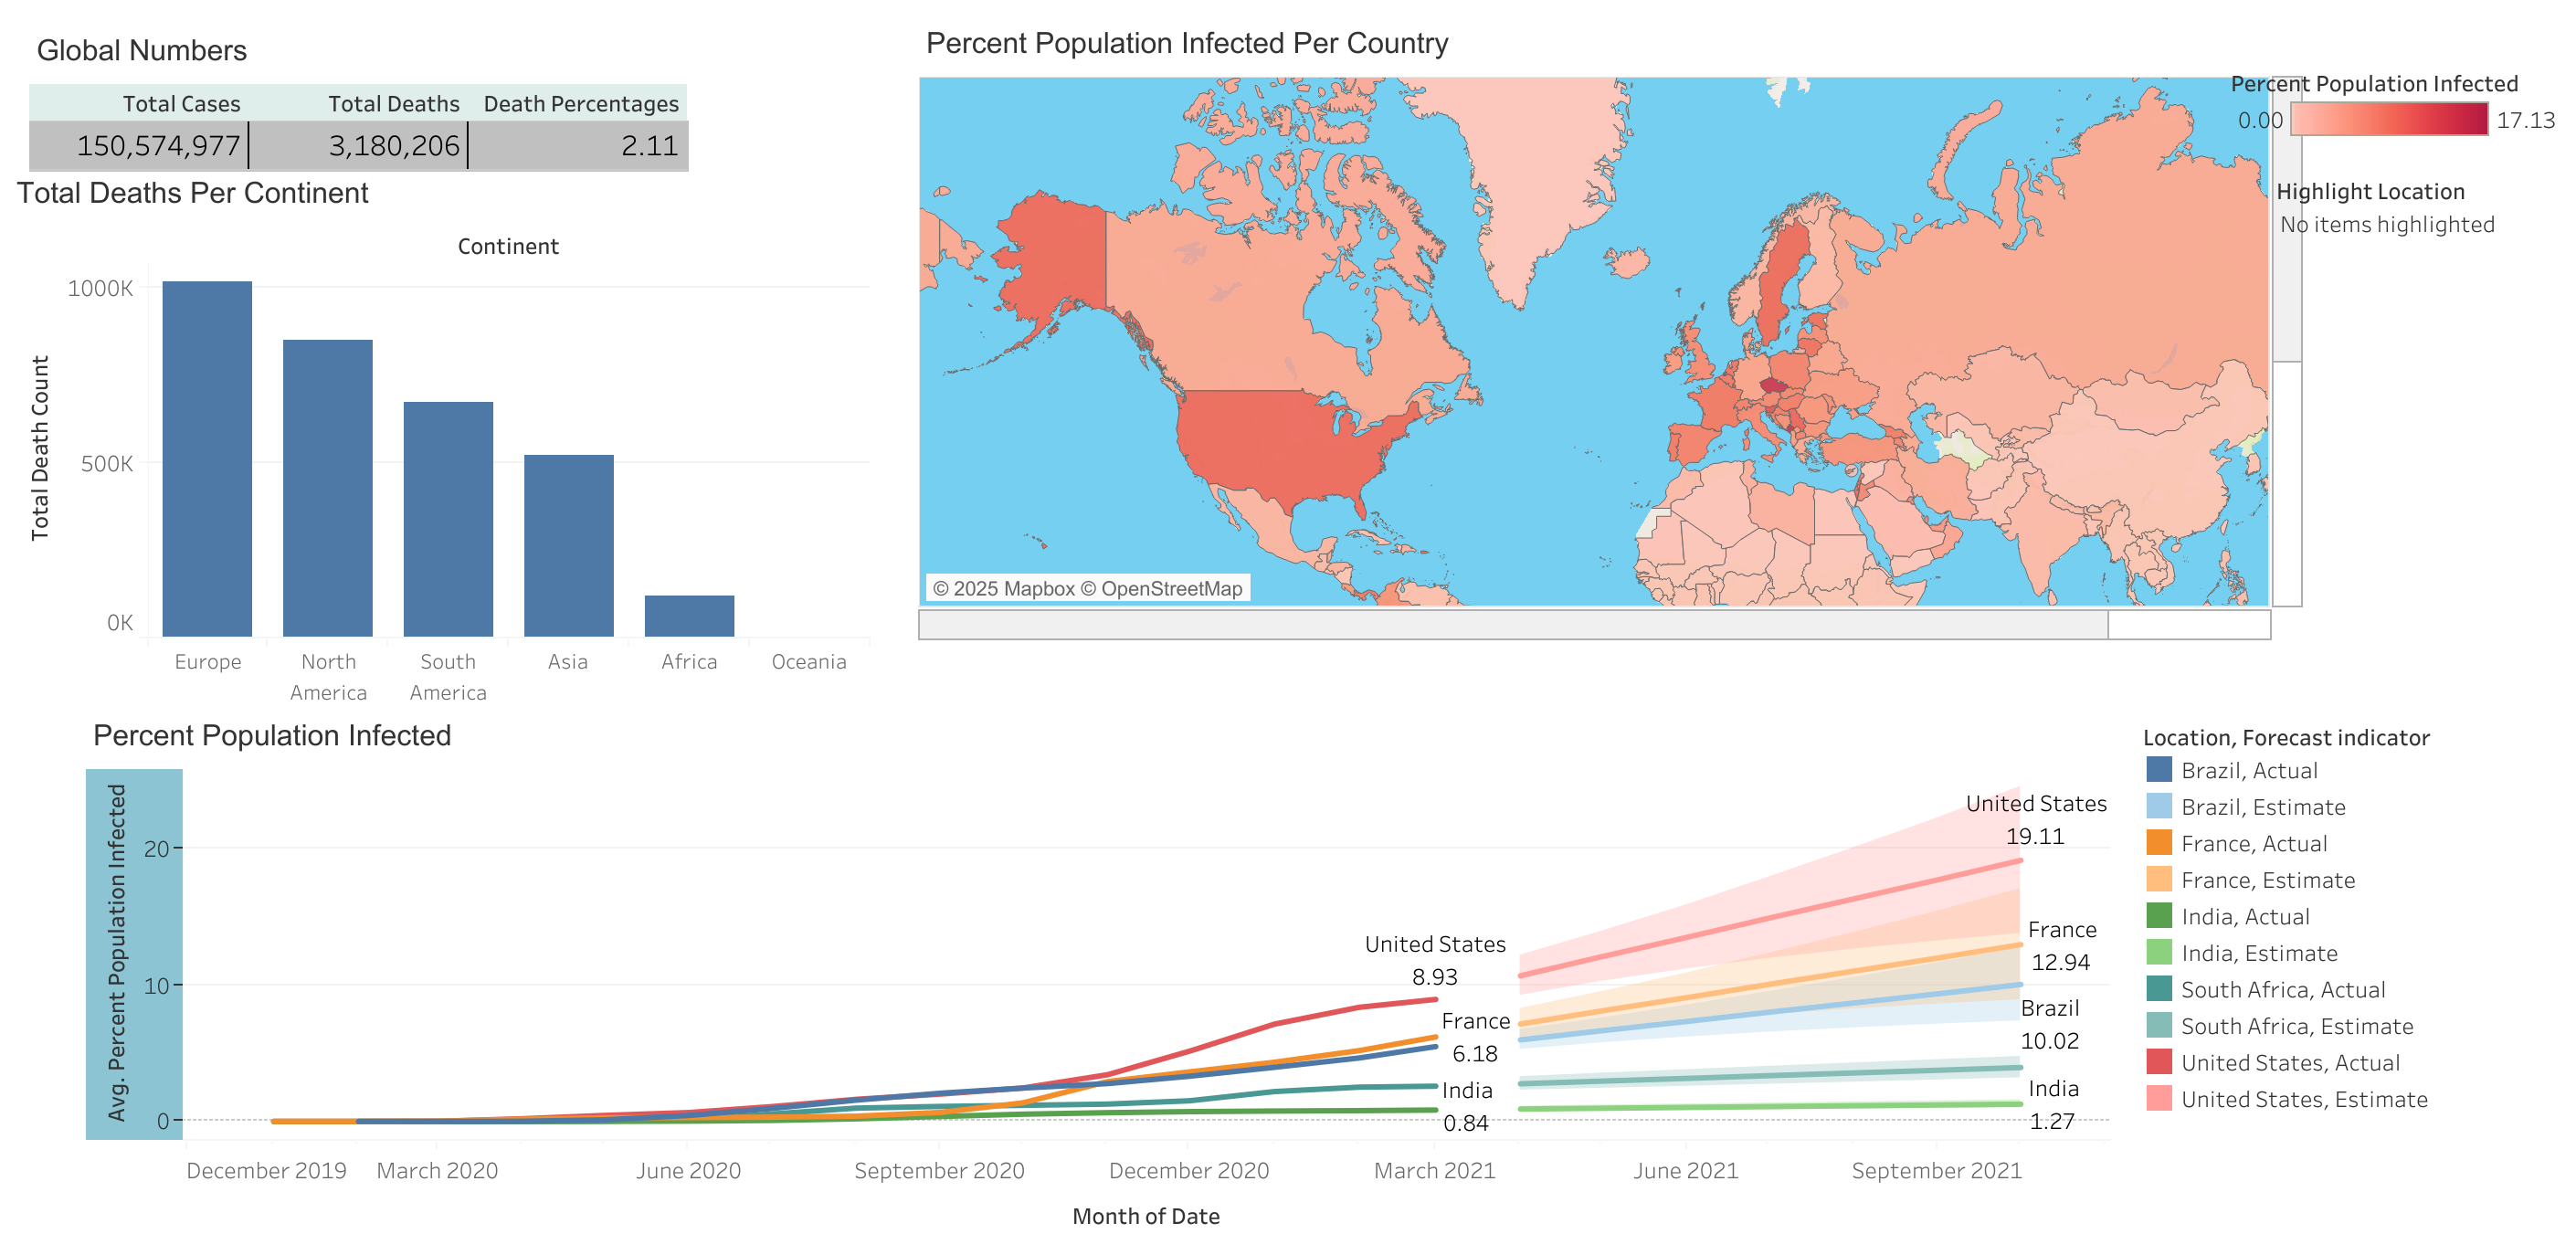

The page's visual inventory and layout, read from the dashboard file:
{"tool":"tableau","page":{"name":"Dashboard 1","canvas":[1000,1000],"units":"permille","ordinal":0},"visuals":[{"type":"worksheet","title":"Sheet 1","mark":"Automatic","box":[11.4,18.1,329.5,340.4]},{"type":"worksheet","title":"Sheet 3","mark":"Automatic","box":[309.2,19.6,579.3,534.6]},{"type":"legend","title":"Sheet 3","param":"[federated.1kwujdx02nrg2b17e2coa0m9q8va].[sum:PercentPopulationInfected:qk]","box":[883.6,33.1,115.5,114.5]},{"type":"worksheet","title":"Sheet 2","mark":"Bar","rows":["TotalDeathCount"],"cols":["Location"],"box":[4.9,222.9,333.6,545.2]},{"type":"worksheet","title":"Sheet 5","mark":"Automatic","rows":["PercentPopulationInfected"],"cols":["date"],"box":[329.5,561.8,525.6,427.7]},{"type":"legend","title":"Sheet 5","param":"[federated.0y7easx0cm13mx10ad8bh1n9hj6w].[none:Location:nk]\n[federated.0y7easx0c","box":[860.1,593.4,133.4,328.3]}]}

Visuals, with their boxes on the dashboard's canvas, which has no fixed pixel size, in thousandths of its width and height (x1, y1, x2, y2). These are canvas units, not pixel positions in the 2576x1255 screenshot, which may show the page scaled, cropped or inside an application window:
"Sheet 1" worksheet: bbox=[11, 18, 341, 358]
"Sheet 3" worksheet: bbox=[309, 20, 888, 554]
"Sheet 3" legend: bbox=[884, 33, 999, 148]
"Sheet 2" worksheet (Bar marks): bbox=[5, 223, 338, 768]
"Sheet 5" worksheet: bbox=[330, 562, 855, 990]
"Sheet 5" legend: bbox=[860, 593, 994, 922]
